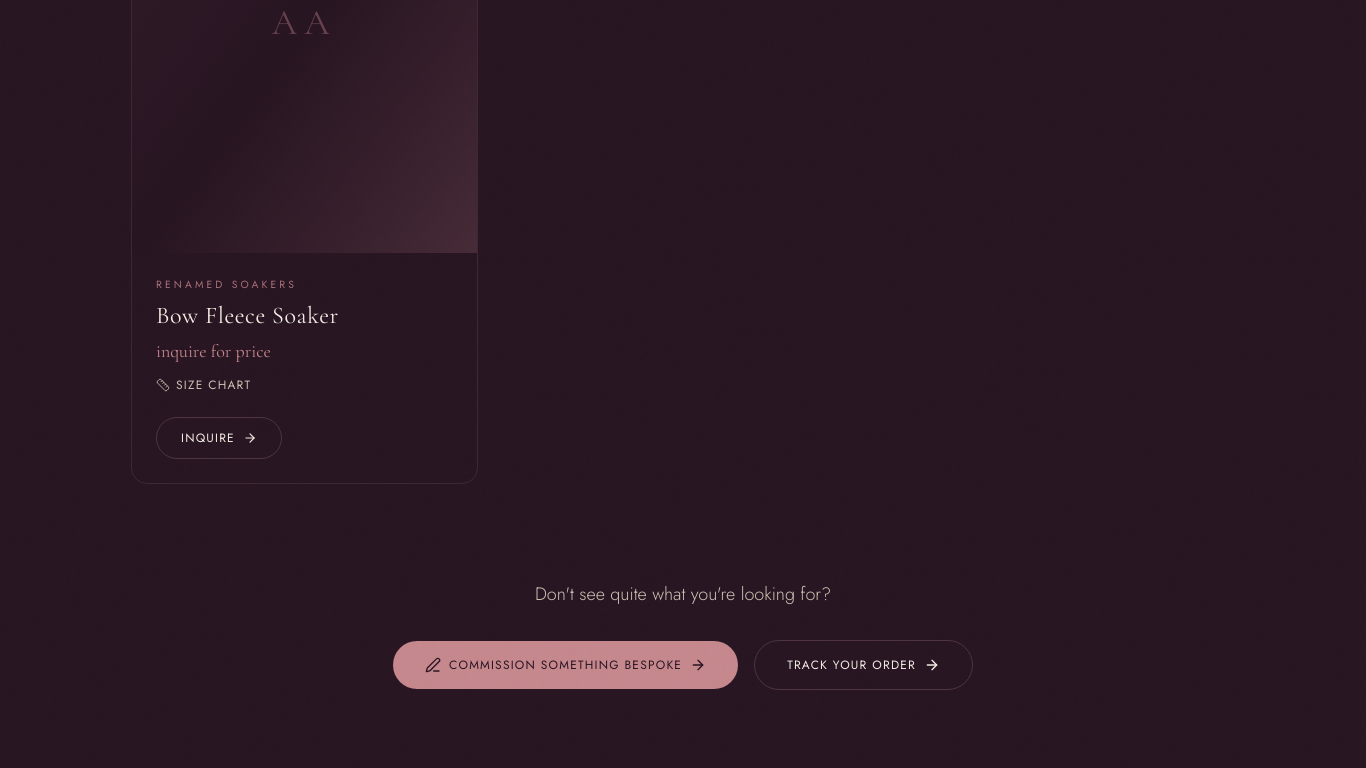
Test: Shop sizes › opens the blade-length chart on a soaker card, driven by `sizeGuide` not the category name
(page scrolled)
Click the button with test id "link-size-chart". click: (214, 385)
box: [156, 377, 453, 393]
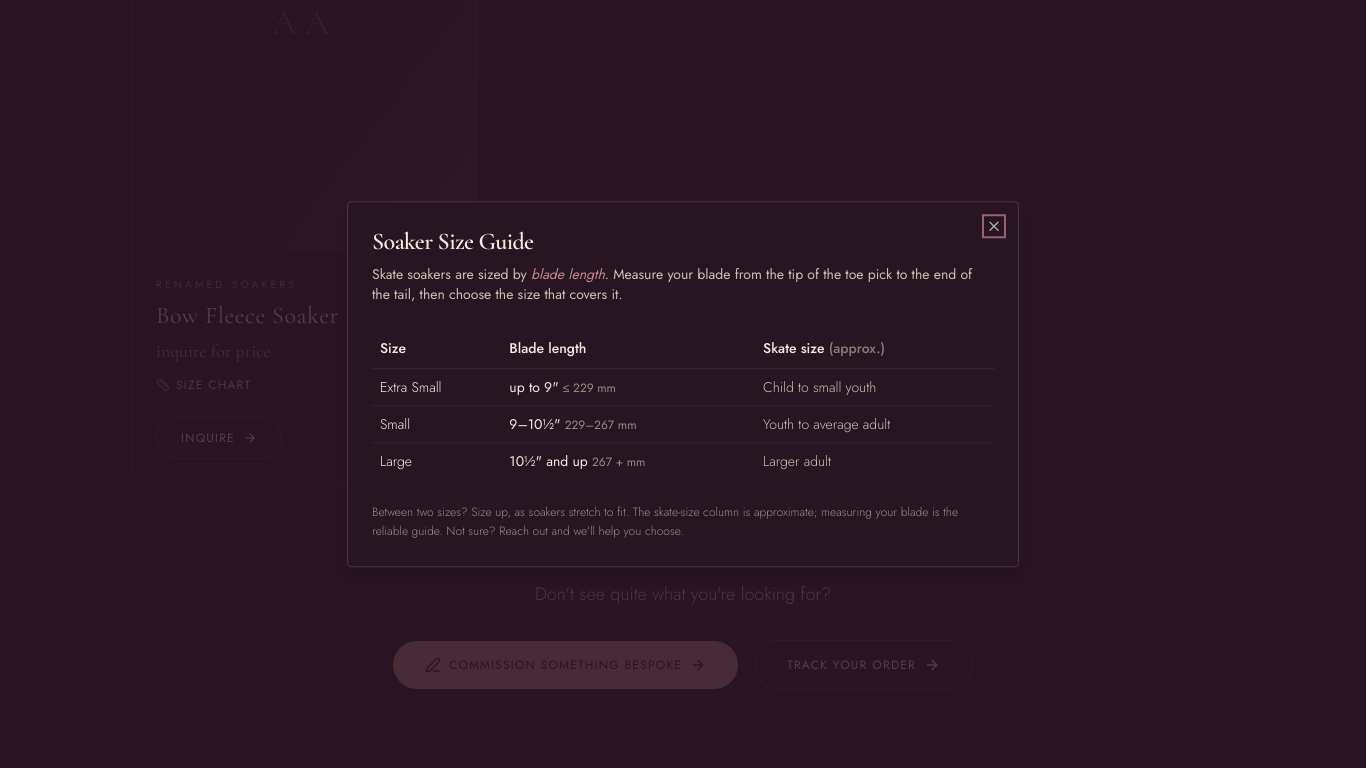
Expected: the heading "Soaker Size Guide" is shown, [372, 227, 533, 256]
Expected: the column heading "Blade length" is shown, [501, 328, 755, 368]
